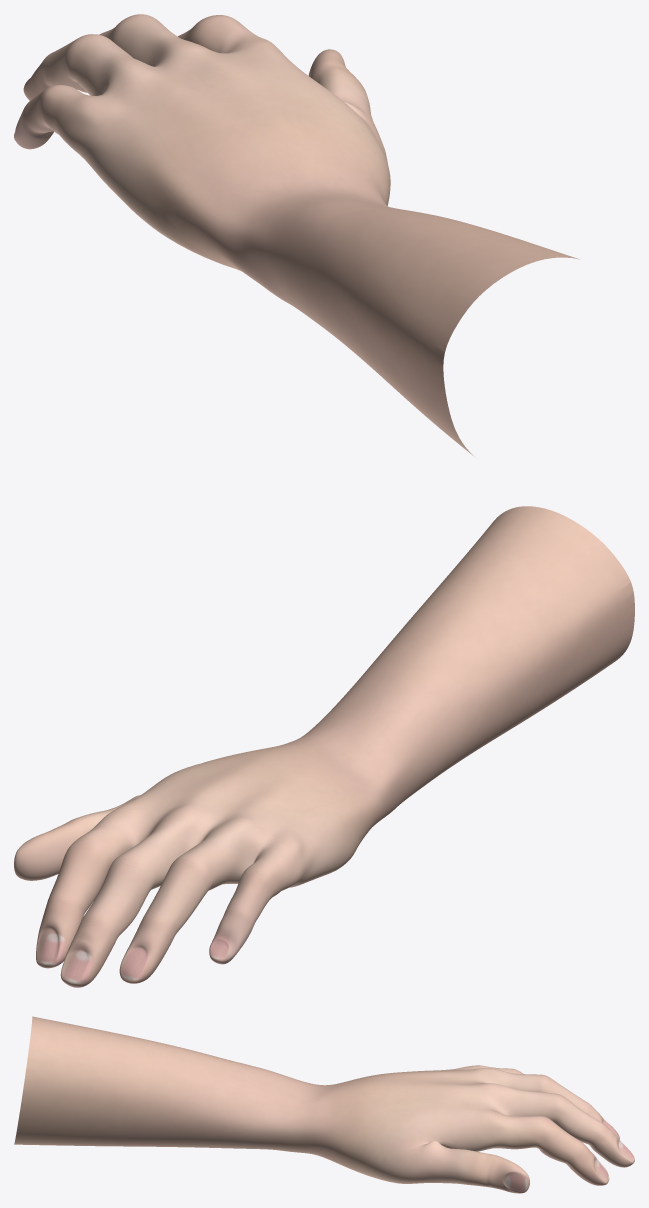
The model's file is hand.glb.
3 renders of one model, top to bottom at view 1: azimuth 30°, elevation 25°; view 2: azimuth 150°, elevation 25°; view 3: azimuth 270°, elevation 25°, orthographic. The views are drawn at different scales.
Visible parts, largest first — view 1: hand; view 2: hand; view 3: hand.
Part boxes in pixels (box(x1,y1,x2,y2)): hand: box(14, 14, 579, 457); hand: box(14, 506, 634, 987); hand: box(14, 1016, 634, 1193).
Bounding box in the file's own units: 101 × 67.05 × 291.
Materials: 2 (2 with a texture image).
